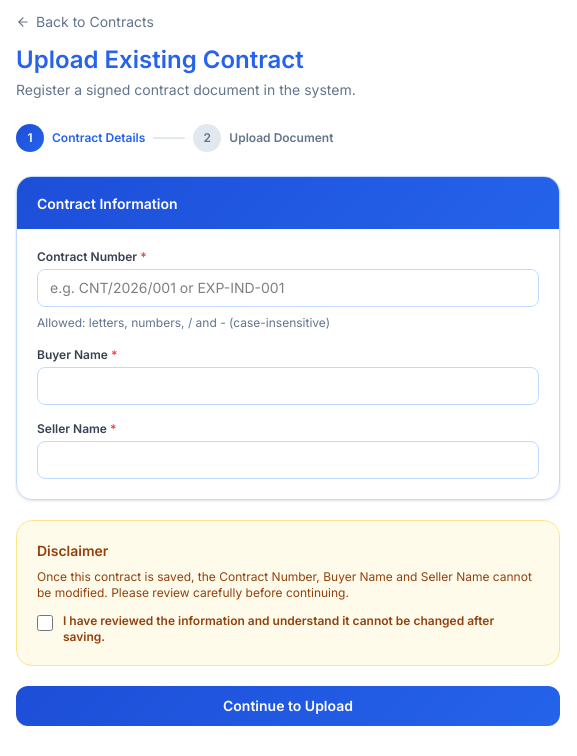
ContractUploadPage › shows validation errors when submitting an empty form
This screenshot has width=577, height=756.
What coordinates should you click on to do the following:
click the button "Continue to Upload"
I would click on:
 (288, 706)
Its box is [16,686,560,726].
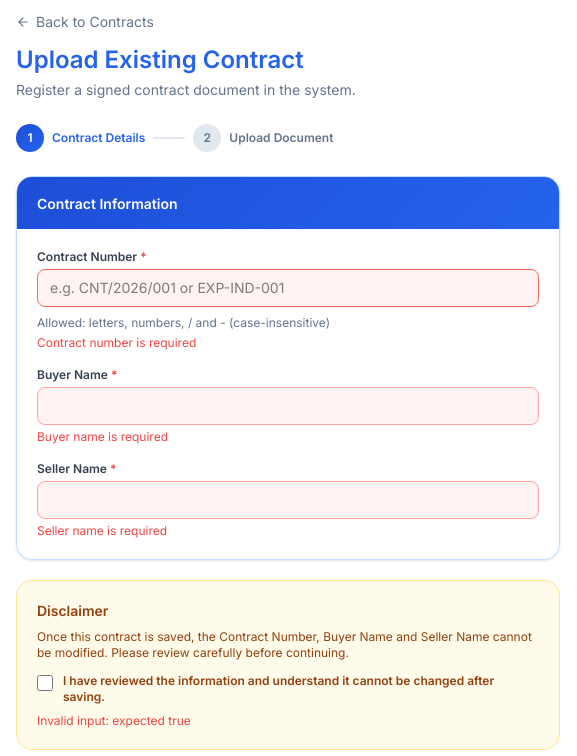
Check: the text "Contract number is required" is shown, box [37,335,196,350]
Check: the text "Buyer name is required" is shown, box [37,429,168,444]
Check: the text "Seller name is required" is shown, box [37,523,167,538]
